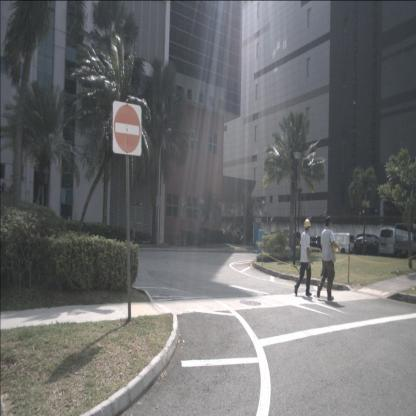vehicle-car: (378, 228, 415, 258), (326, 233, 355, 255), (354, 234, 384, 255), (303, 236, 323, 252)
vehicle-truck: (395, 223, 415, 260)
